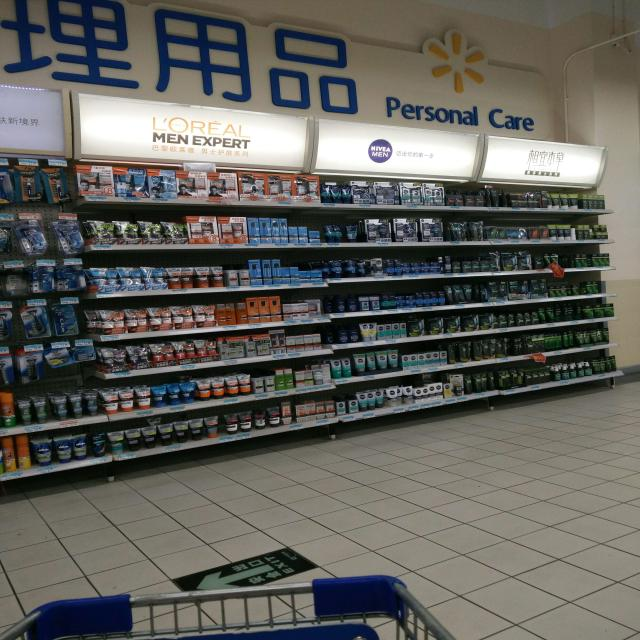empty: (558, 254, 577, 268)
